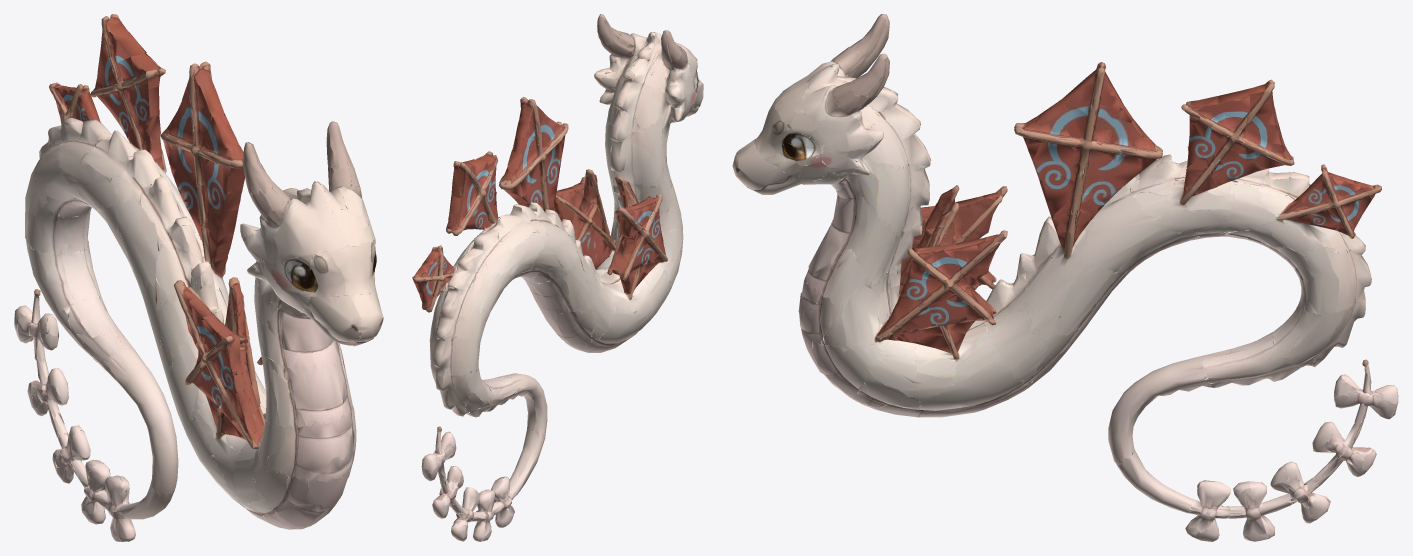
3 views of the same model, side by side, from view 1: azimuth 30°, elevation 25°; view 2: azimuth 150°, elevation 25°; view 3: azimuth 270°, elevation 25° (orthographic). The views are drawn at different scales.
Visible parts, largest first — view 1: Mesh_0; view 2: Mesh_0; view 3: Mesh_0.
Part boxes in pixels (x1,y1,x2,y2): Mesh_0: [14, 14, 383, 541]; Mesh_0: [412, 14, 703, 541]; Mesh_0: [732, 14, 1398, 541].
Size of the model in its own units: 0.3468 by 1.59 by 1.9.
1 material, 1 textured.
